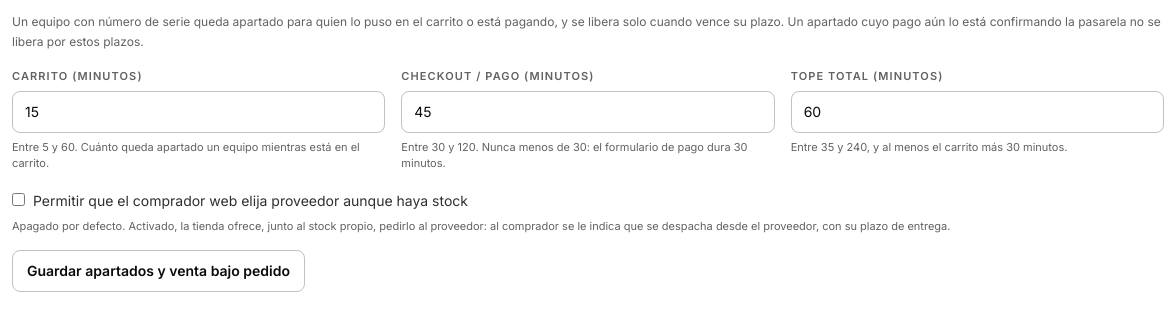
Scenario: an empty minutes box is not sent as zero: it is refused before saving
The image size is (1176, 309).
Clear the number field labelled "Carrito (minutos)" at (199, 112), box [12, 90, 385, 132]
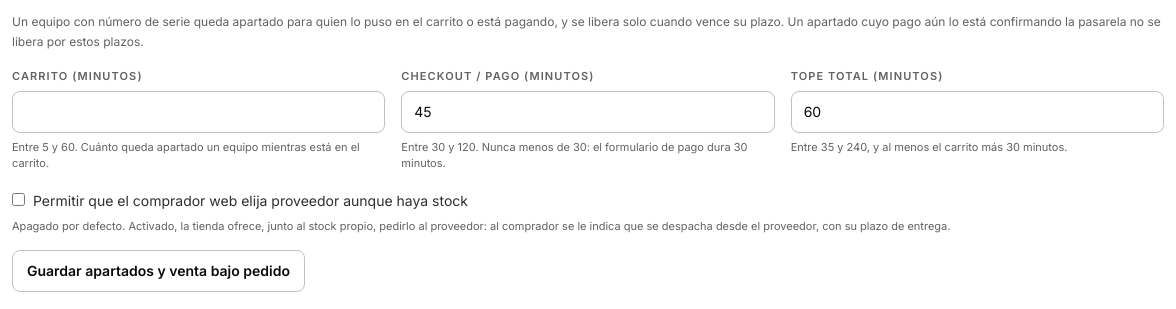
Click the button "Guardar apartados y venta bajo pedido" at (158, 271), box [12, 250, 305, 292]
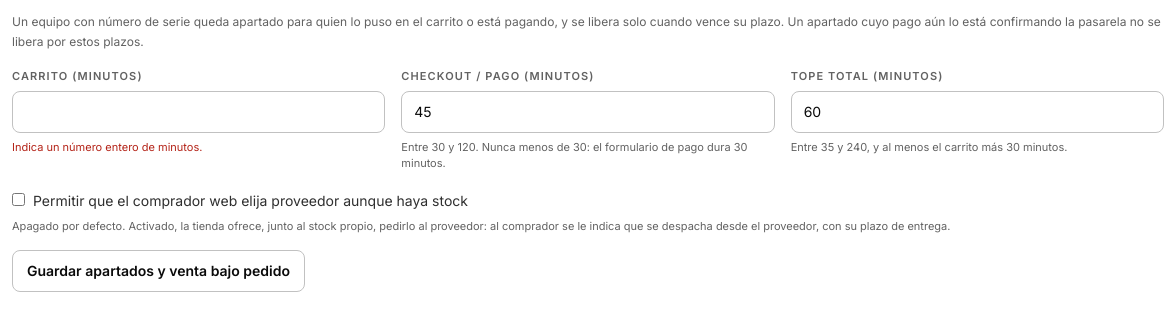
Check: the text "Indica un número entero de minutos." is shown, box [12, 140, 202, 154]
